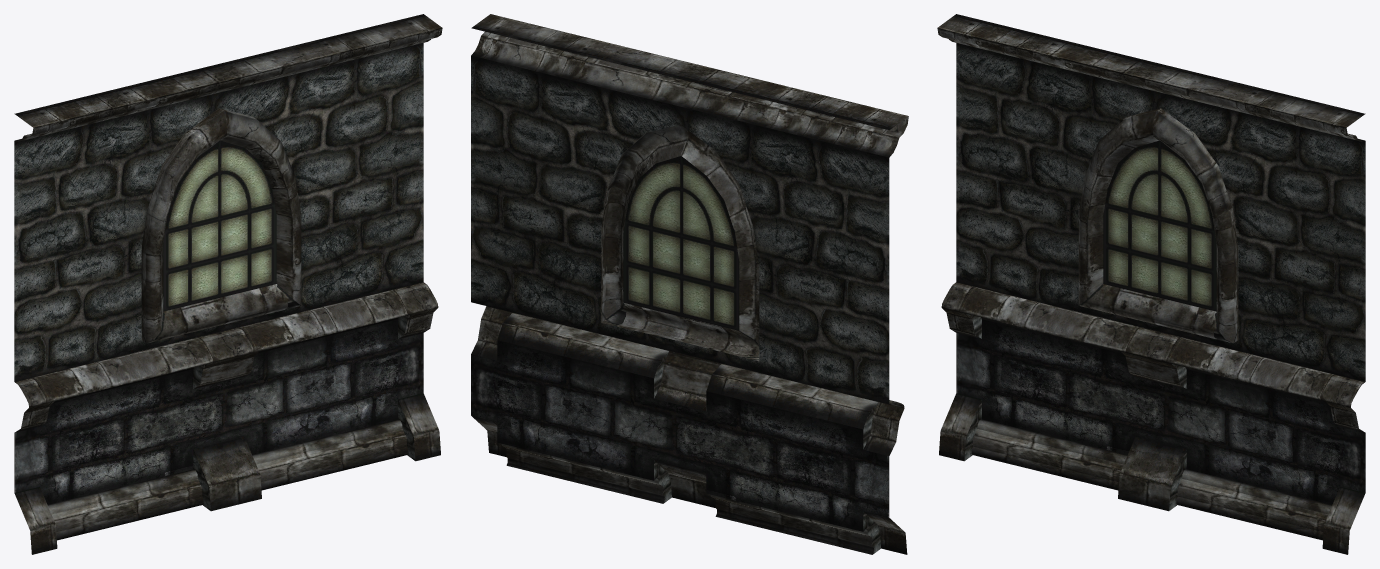
The model's file is window_yellow01.DAE.
3 renders of one model, left to right at view 1: azimuth 30°, elevation 25°; view 2: azimuth 150°, elevation 25°; view 3: azimuth 330°, elevation 25°, orthographic. The views are drawn at different scales.
Visible parts, largest first — view 1: Object053, Object054, Object055; view 2: Object053, Object054, Object055; view 3: Object053, Object054, Object055.
Boxes of the visible parts, box(x1,y1,x2,y2) form: Object053: box(14, 14, 442, 554); Object054: box(163, 140, 276, 311); Object055: box(141, 108, 301, 343); Object053: box(471, 14, 908, 554); Object054: box(623, 156, 739, 330); Object055: box(601, 124, 759, 361); Object053: box(937, 14, 1365, 554); Object054: box(1103, 140, 1216, 311); Object055: box(1078, 108, 1238, 343).
Bounding box in the file's own units: 4 × 4 × 0.3222.
